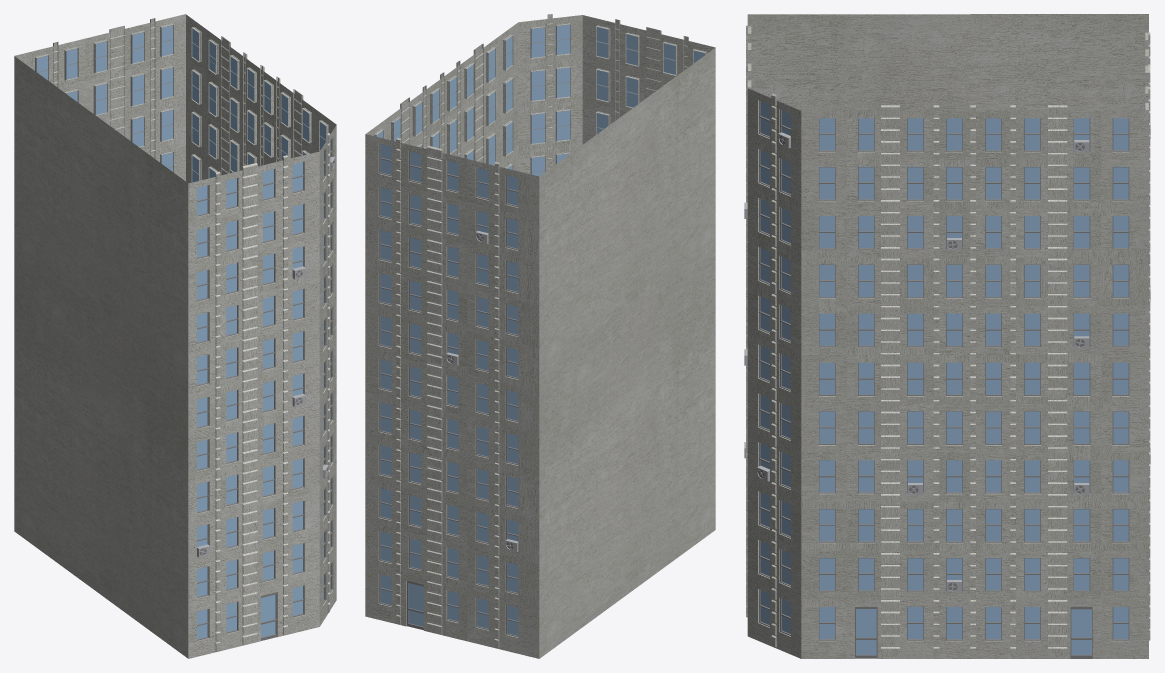
The model's file is cityscene2_00.gltf.
3 views of the same model, side by side, from view 1: azimuth 30°, elevation 25°; view 2: azimuth 150°, elevation 25°; view 3: azimuth 270°, elevation 25° (orthographic). The views are drawn at different scales.
Visible parts, largest first — view 1: cityscene2_00; view 2: cityscene2_00; view 3: cityscene2_00.
Boxes of the visible parts, box(x1,y1,x2,y2) form: cityscene2_00: box(14, 14, 336, 658); cityscene2_00: box(365, 14, 715, 658); cityscene2_00: box(744, 14, 1150, 658).
Size of the model in its own units: 6.36 by 16.88 by 11.22.
4 materials, 1 textured.
